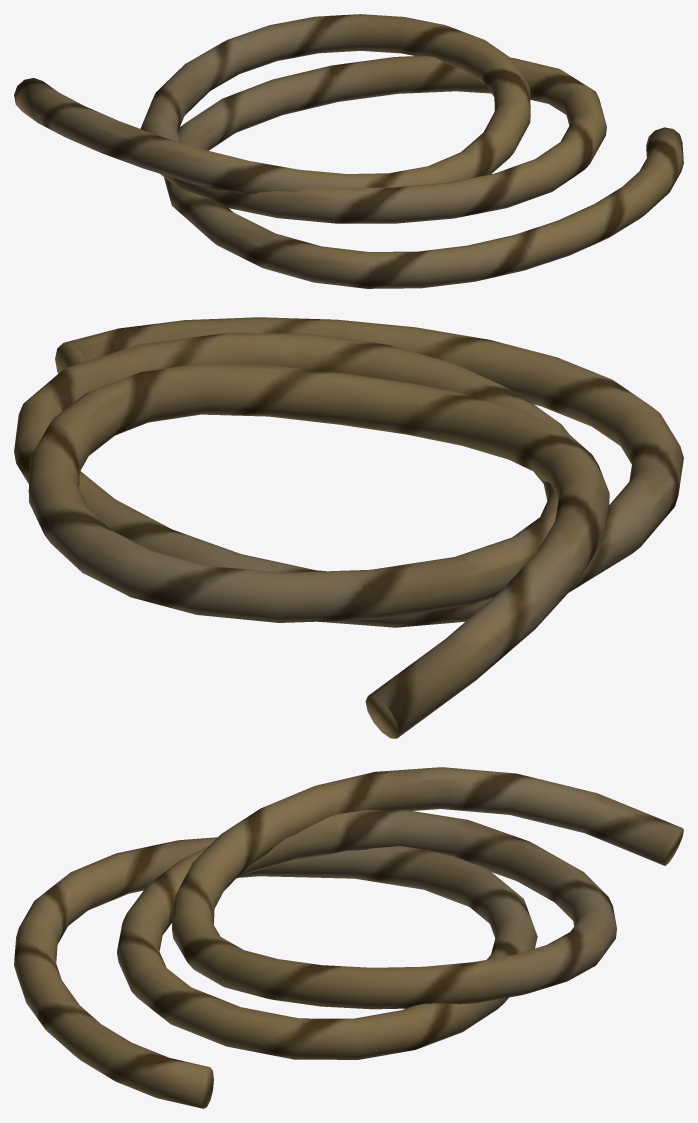
The model's file is Rope_2.glb.
3 views of the same model, one above another, from view 1: azimuth 30°, elevation 25°; view 2: azimuth 150°, elevation 25°; view 3: azimuth 270°, elevation 25° (orthographic). The views are drawn at different scales.
Parts seen in each view (by area): view 1: Rope_2; view 2: Rope_2; view 3: Rope_2.
Part boxes in pixels (left/top/right/bottom): Rope_2: left=14, top=14, right=683, bottom=288; Rope_2: left=14, top=317, right=683, bottom=738; Rope_2: left=14, top=767, right=683, bottom=1108.
Size of the model in its own units: 0.8079 by 0.1236 by 0.845.
Materials: 1 (1 with a texture image).
